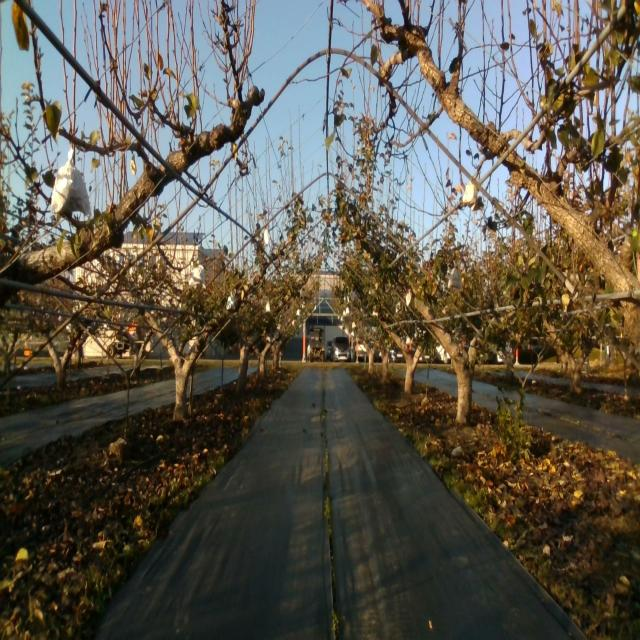pearbags: (50, 149, 90, 218), (463, 179, 478, 214), (188, 262, 205, 286), (448, 266, 462, 290)
